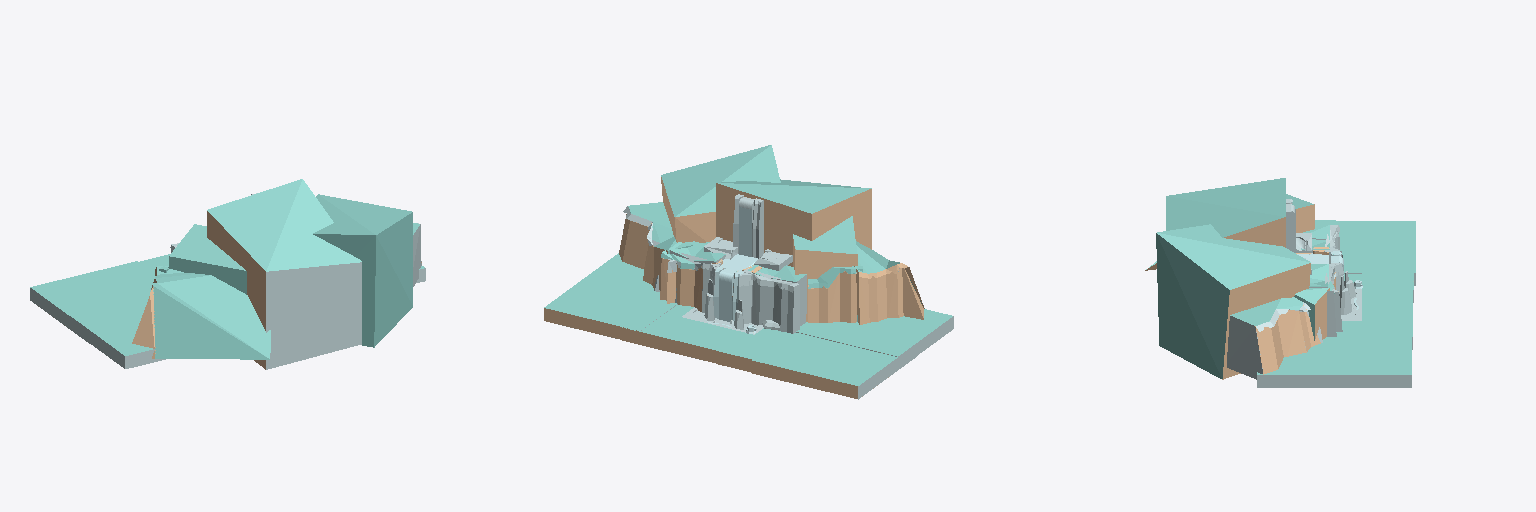
3 views of the same model, side by side, from view 1: azimuth 30°, elevation 25°; view 2: azimuth 150°, elevation 25°; view 3: azimuth 270°, elevation 25° (orthographic).
Visible parts, largest first — view 1: Waterfall_treeStump_round_side; view 2: Waterfall_treeStump_round_side; view 3: Waterfall_treeStump_round_side.
Part boxes in pixels (left/top/right/bottom): Waterfall_treeStump_round_side: left=30, top=179, right=425, bottom=369; Waterfall_treeStump_round_side: left=544, top=145, right=953, bottom=399; Waterfall_treeStump_round_side: left=1145, top=178, right=1415, bottom=387.
Size of the model in its own units: 125 by 47.73 by 92.91.
5 materials, 1 textured.